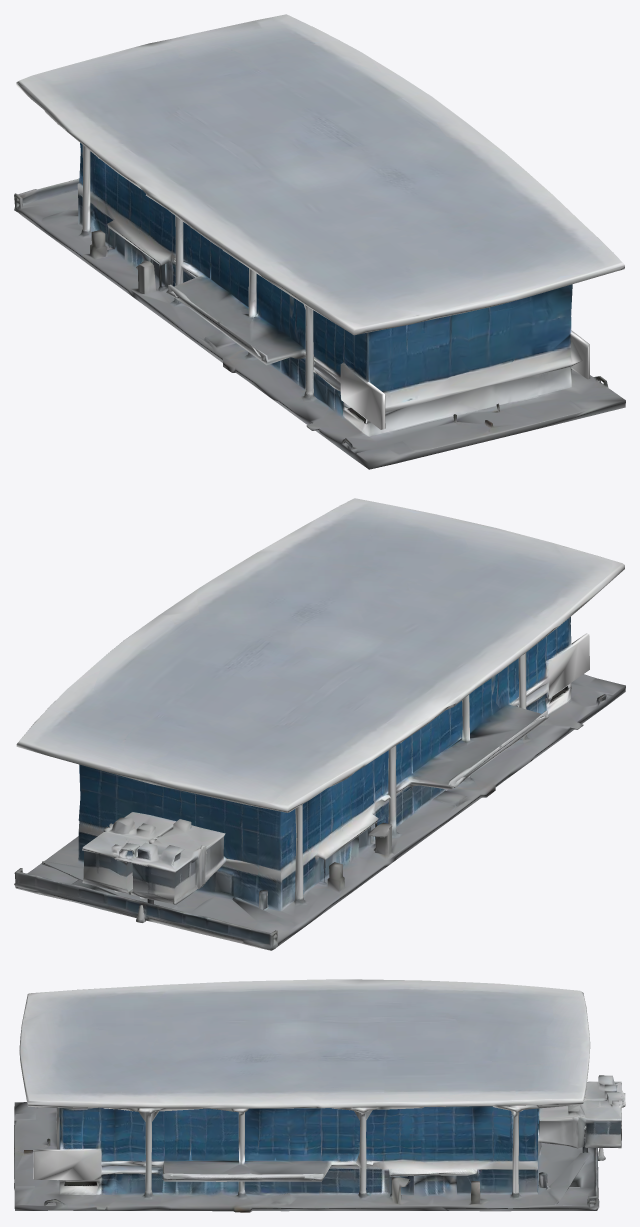
Rendered from airport_terminal.glb.
3 renders of one model, top to bottom at view 1: azimuth 30°, elevation 25°; view 2: azimuth 150°, elevation 25°; view 3: azimuth 270°, elevation 25°, orthographic. The views are drawn at different scales.
Parts seen in each view (by area): view 1: tripo_node_418ebd5c-4bae-4660-ba11-0b5a50226933; view 2: tripo_node_418ebd5c-4bae-4660-ba11-0b5a50226933; view 3: tripo_node_418ebd5c-4bae-4660-ba11-0b5a50226933.
Part boxes in pixels (x1,y1,x2,y2): tripo_node_418ebd5c-4bae-4660-ba11-0b5a50226933: (14,14,625,469); tripo_node_418ebd5c-4bae-4660-ba11-0b5a50226933: (14,498,625,950); tripo_node_418ebd5c-4bae-4660-ba11-0b5a50226933: (14,979,625,1212).
Size of the model in its own units: 0.4836 by 0.2162 by 1.
1 material, 1 textured.
